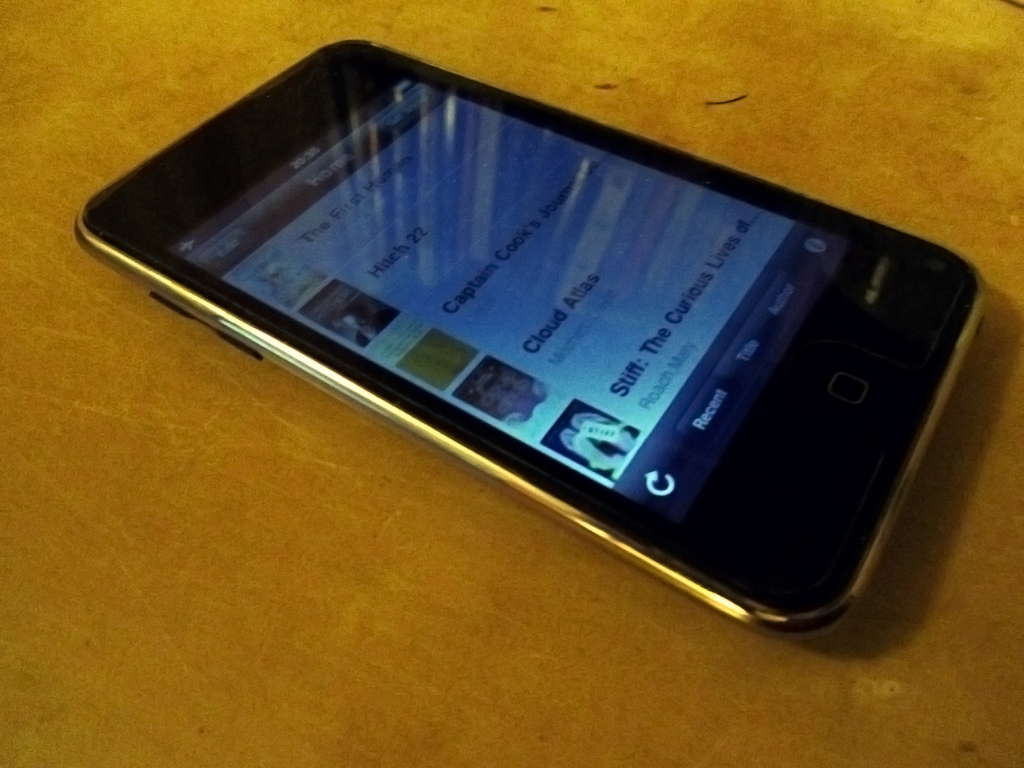Mobile-phone: (79, 29, 1010, 644)
